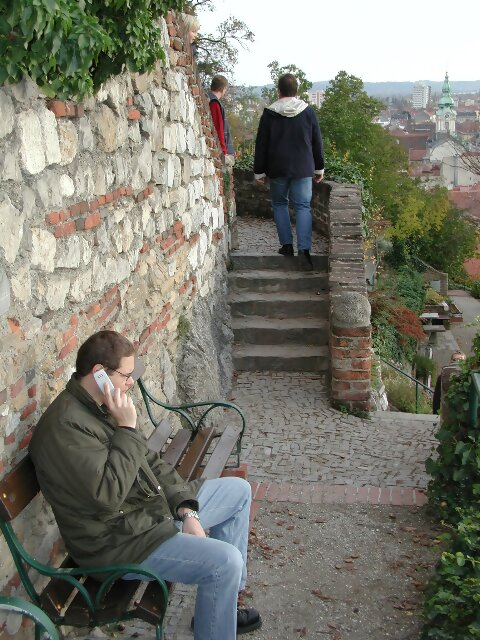person: (29, 325, 286, 638), (255, 73, 328, 265), (200, 68, 240, 169)
